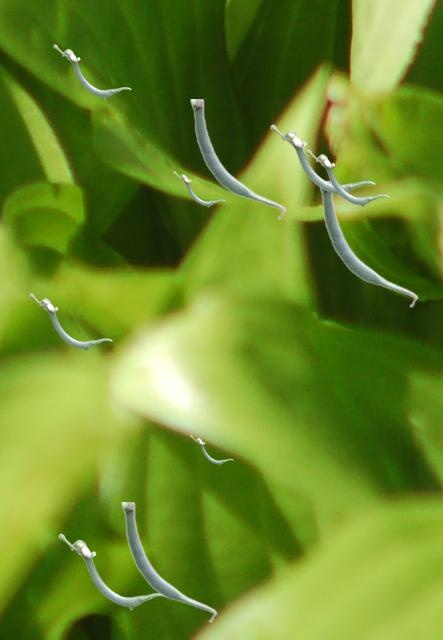french_bean: (318, 181, 417, 307), (190, 99, 285, 219), (121, 502, 216, 622), (58, 533, 162, 609), (270, 124, 374, 196), (29, 293, 111, 350), (306, 149, 388, 206), (53, 44, 130, 98), (173, 171, 224, 206), (190, 435, 232, 464)
